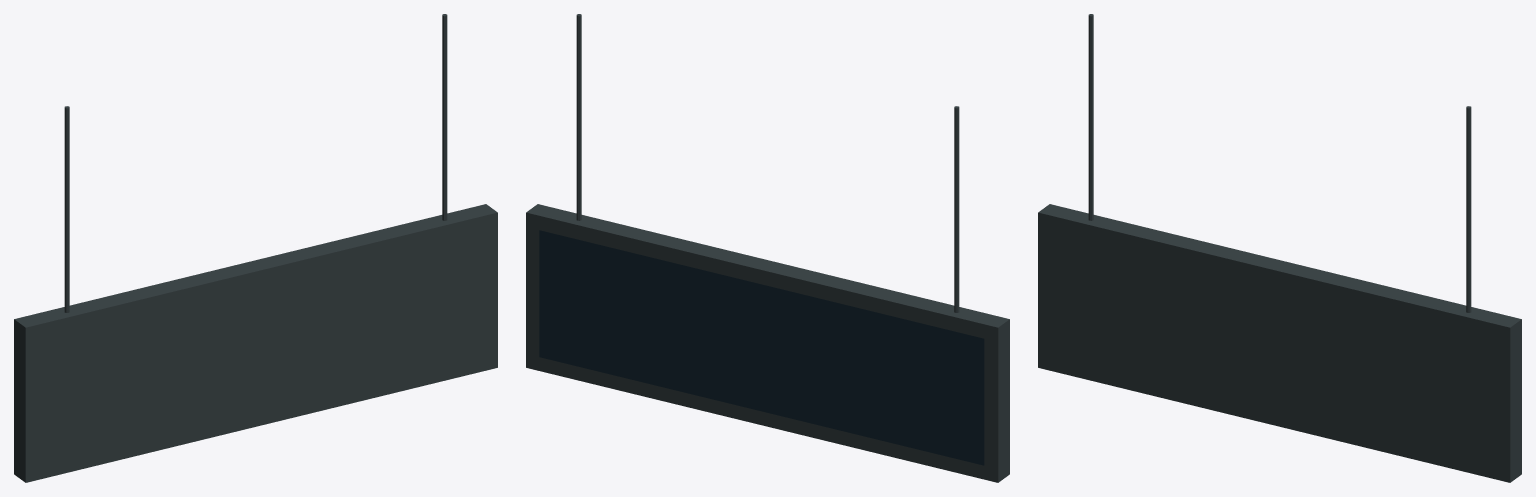
The model's file is departure_board.obj.
3 views of the same model, side by side, from view 1: azimuth 30°, elevation 25°; view 2: azimuth 150°, elevation 25°; view 3: azimuth 330°, elevation 25° (orthographic).
Visible parts, largest first — view 1: housing, ceiling_rods; view 2: runtime_departures, housing, ceiling_rods; view 3: housing, ceiling_rods.
Boxes of the visible parts, left/top/right/bottom form: housing: left=14, top=204, right=497, bottom=482; ceiling_rods: left=64, top=14, right=447, bottom=312; runtime_departures: left=539, top=230, right=984, bottom=465; housing: left=526, top=204, right=1009, bottom=482; ceiling_rods: left=576, top=14, right=959, bottom=312; housing: left=1038, top=204, right=1521, bottom=482; ceiling_rods: left=1088, top=14, right=1471, bottom=312.
Bounding box in the file's own units: 7 × 5.1 × 0.307.
